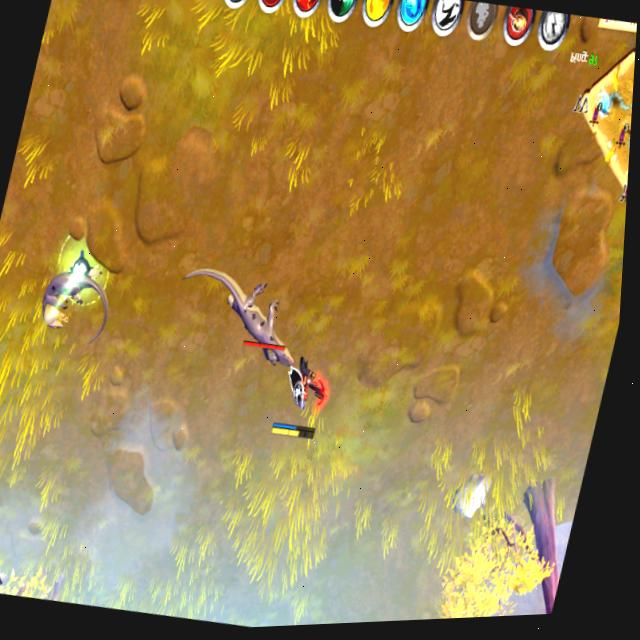ore: (163, 245, 322, 384)
red: (266, 340, 339, 449)
wisp caged: (487, 469, 583, 617)
